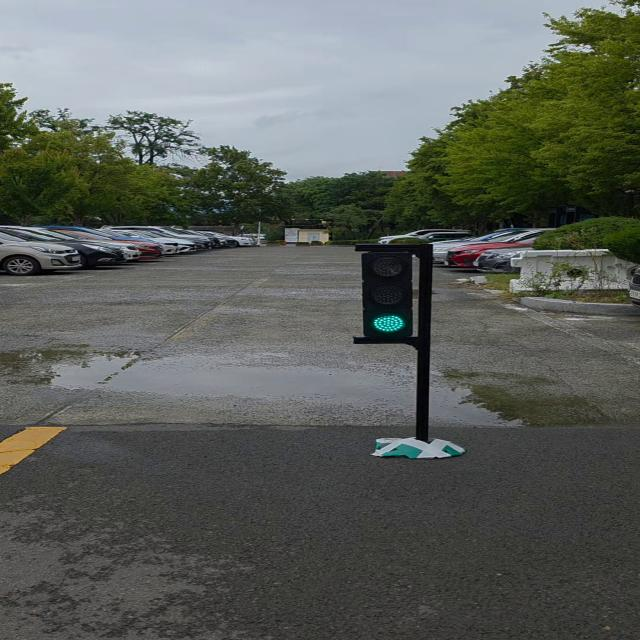green: (363, 246, 425, 342)
